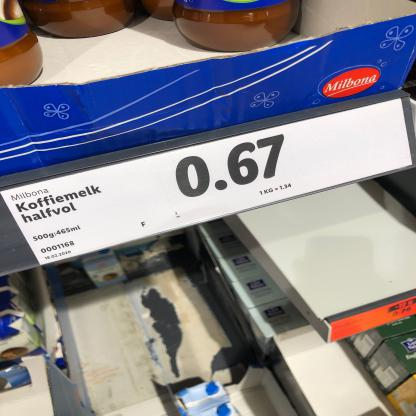prtg: (1, 99, 414, 267)
